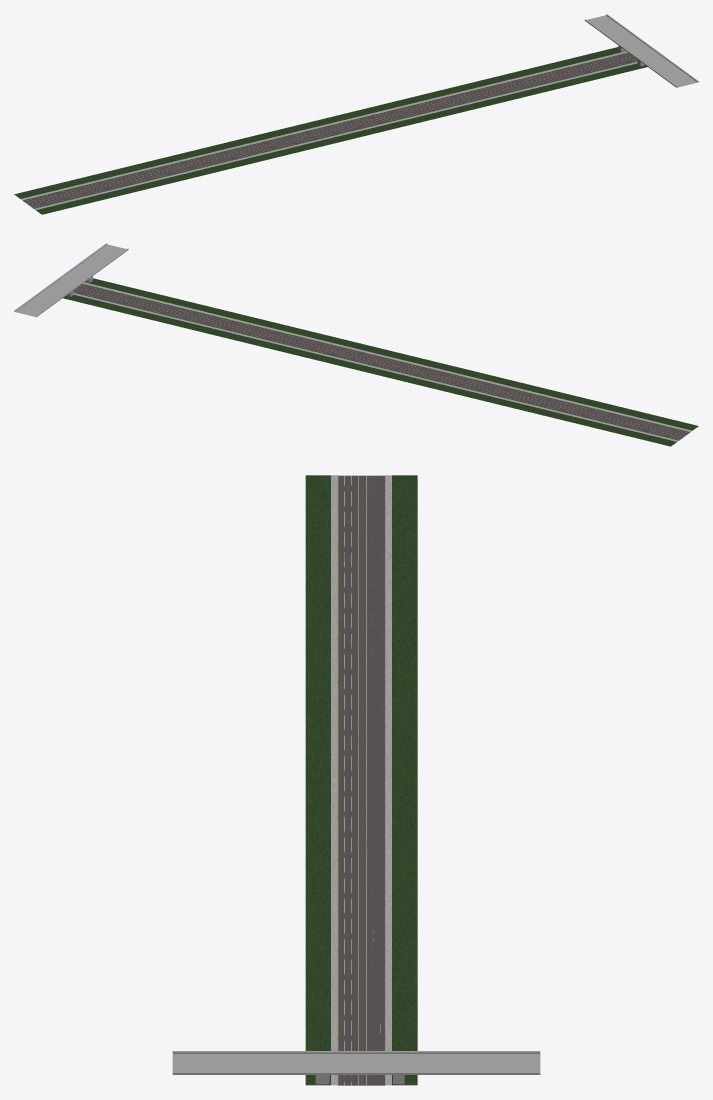
File: Map2.fbx
3 views of the same model, one above another, from view 1: azimuth 30°, elevation 25°; view 2: azimuth 150°, elevation 25°; view 3: azimuth 270°, elevation 25° (orthographic). The views are drawn at different scales.
Visible parts, largest first — view 1: Map2; view 2: Map2; view 3: Map2.
Boxes of the visible parts, x1,y1,x2,y2 form: Map2: (14,14,698,214); Map2: (14,243,698,446); Map2: (172,475,540,1085).
Bounding box in the file's own units: 74.66 × 0.6579 × 19.01.
